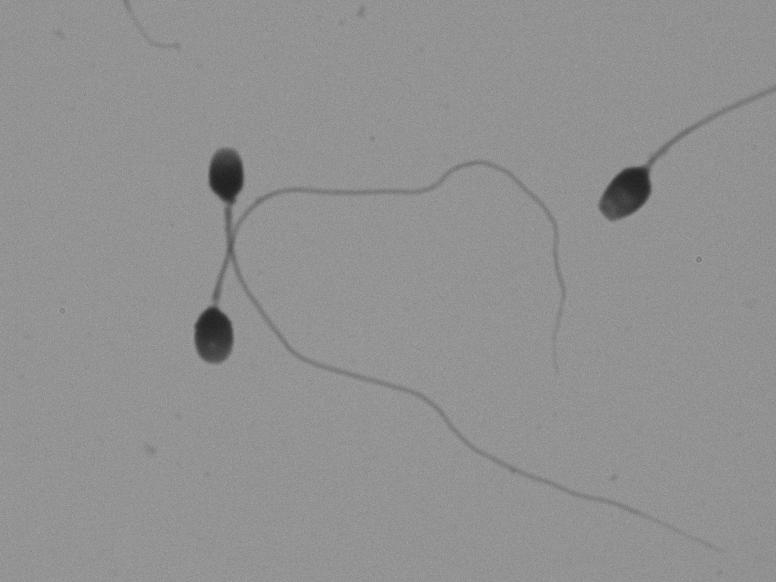Abnormal: (584, 59, 745, 252)
Normal: (184, 142, 582, 380)
